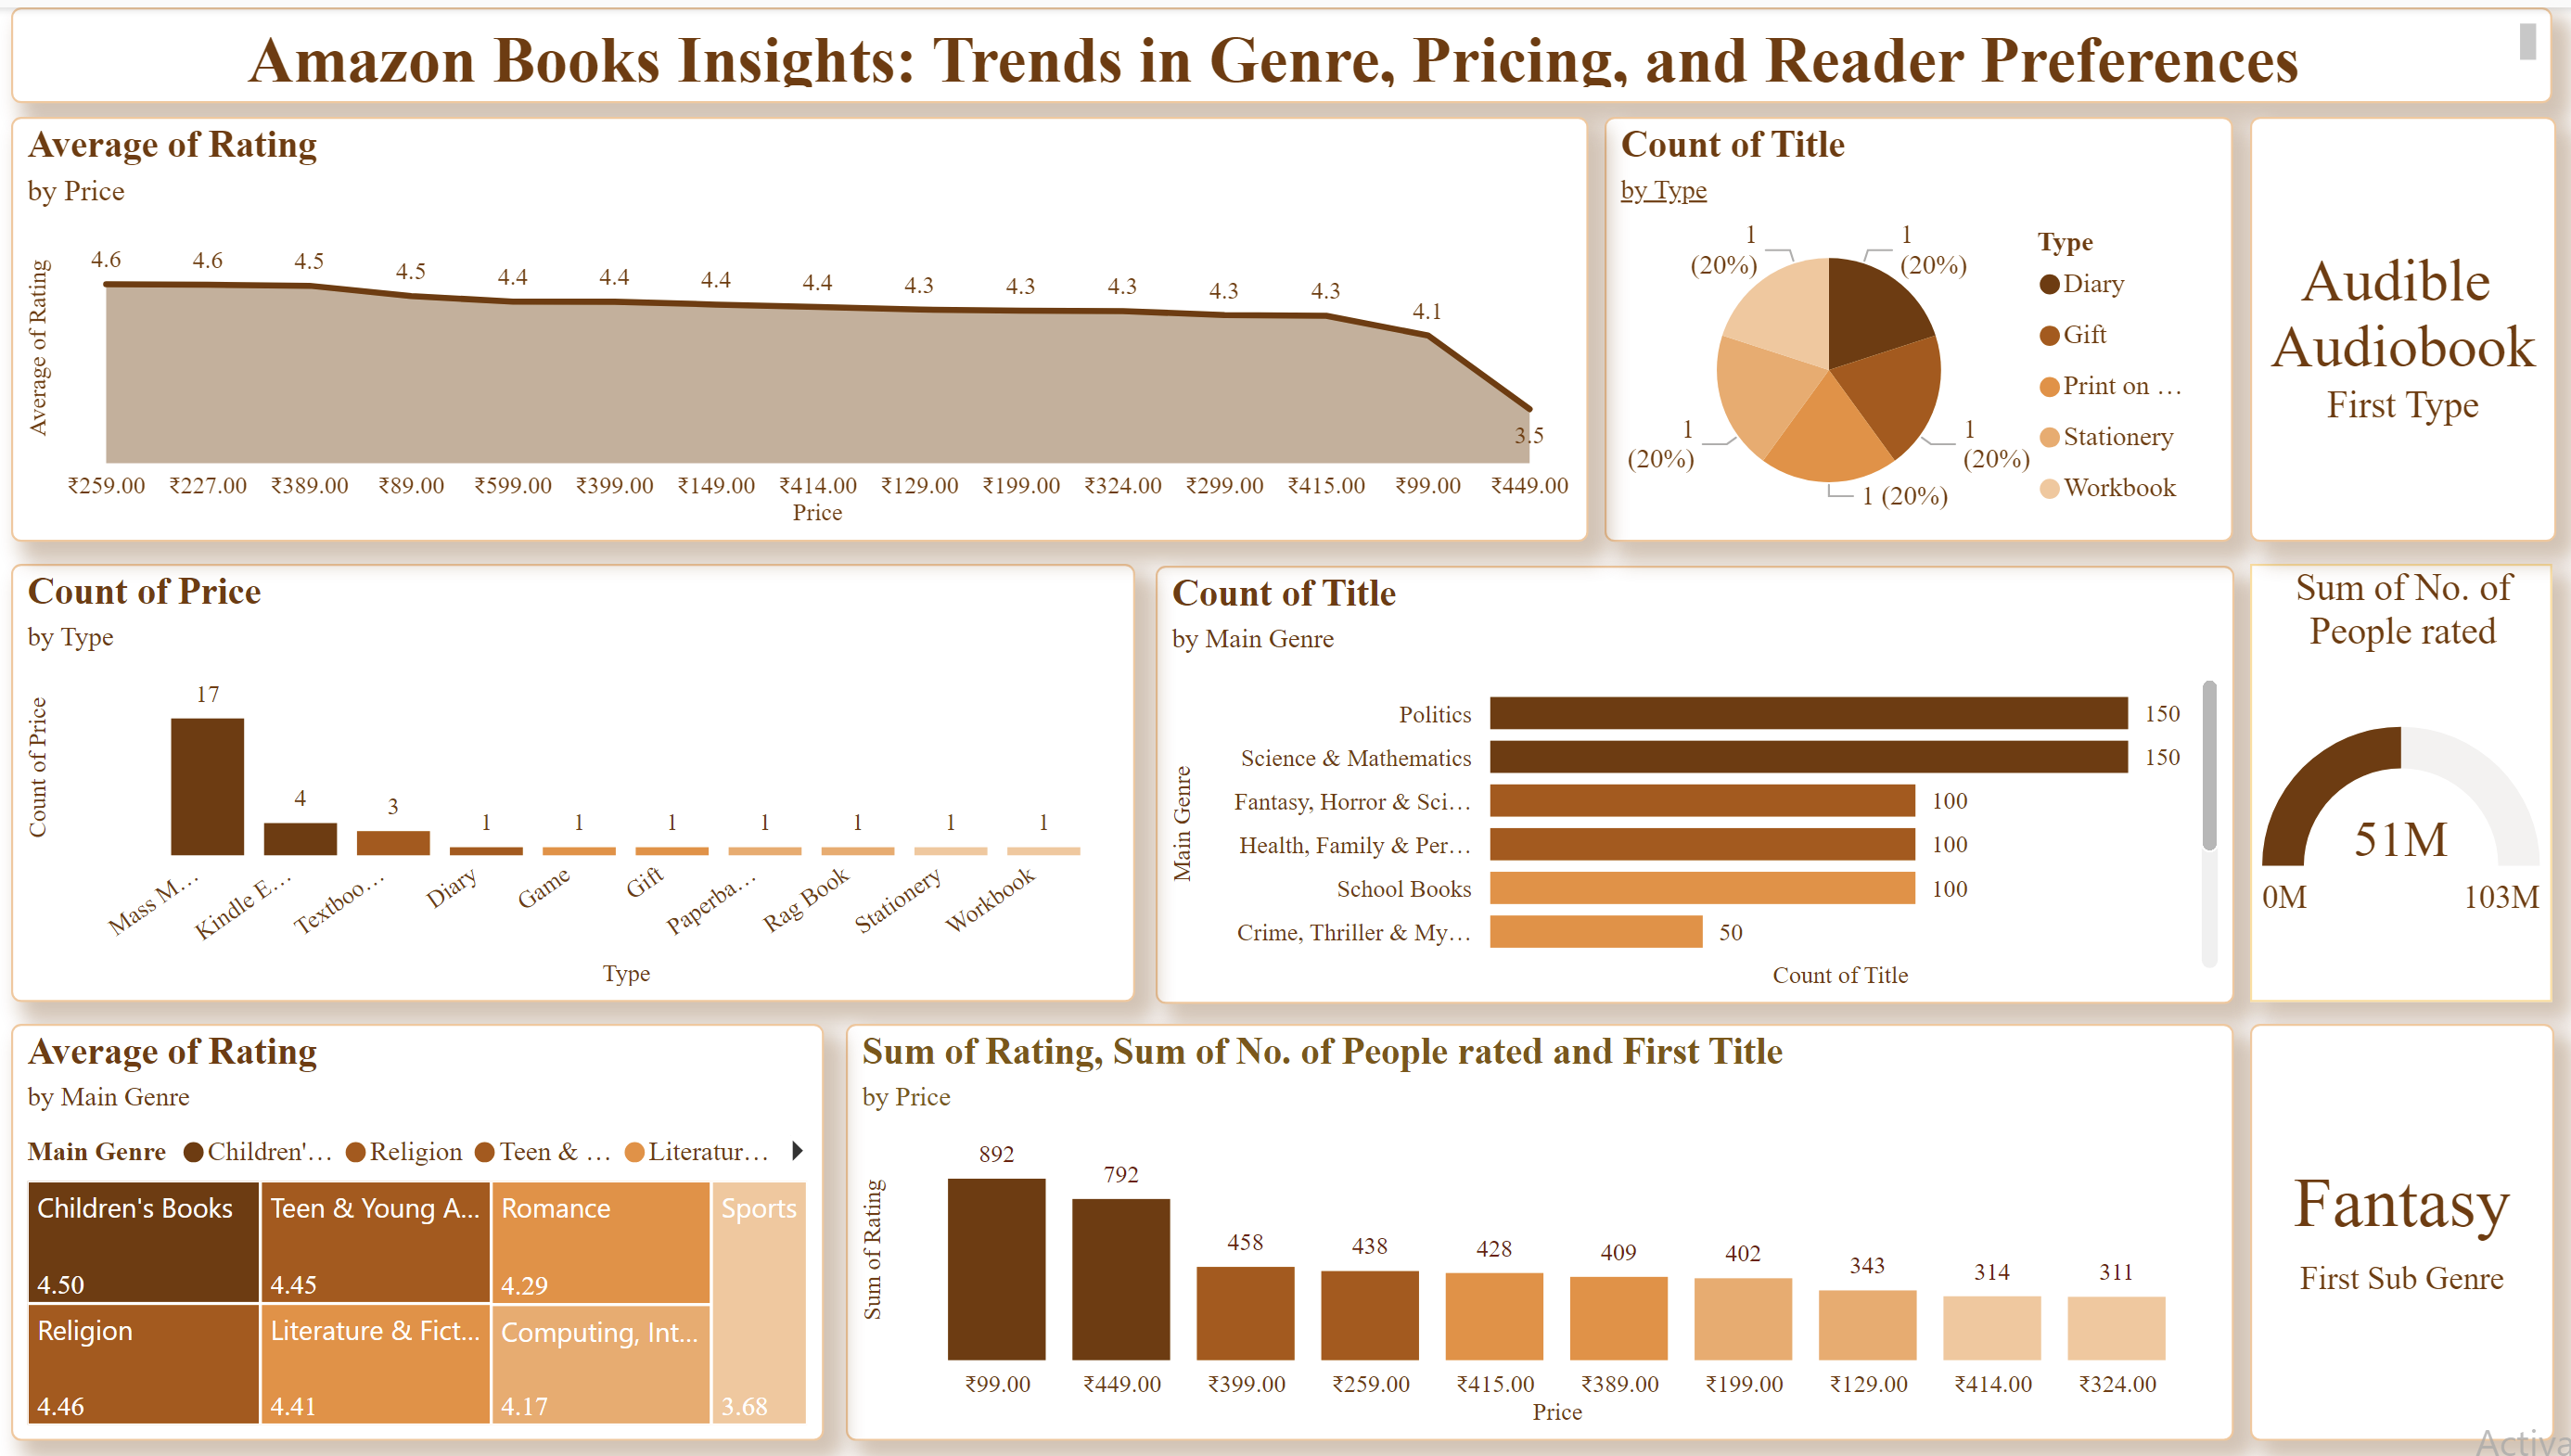

What the dashboard file says about the page in this screenshot:
{"tool":"powerbi","page":{"name":"Page 1","canvas":[1280,720],"ordinal":0},"visuals":[{"type":"textbox","box":[9.3,0,1261.5,47.3],"z":0},{"type":"barChart","fields":{"Category":["Books_df.Main Genre"],"Y":["Books_df.Title"]},"box":[577,277.2,535.3,217.7],"z":1000},{"type":"columnChart","fields":{"Category":["Books_df.Type"],"Y":["Books_df.Price"]},"box":[9.5,276,557.9,217.7],"z":2000},{"type":"scatterChart","fields":{"X":["Books_df.Price"],"Y":["Books_df.Rating"],"Size":["Books_df.No. of People rated"]},"box":[423.5,504.4,688.8,207],"z":3000},{"type":"treemap","fields":{"Group":["Books_df.Main Genre"],"Values":["Books_df.Rating"]},"box":[9.5,504.4,403.3,207],"z":4000},{"type":"pieChart","fields":{"Category":["Books_df.Type"],"Y":["Books_df.Title"]},"box":[800.5,54.5,311.8,210.9],"z":5000},{"type":"areaChart","fields":{"Category":["Books_df.Price"],"Y":["Books_df.Rating"]},"box":[9.3,54.5,783,210.9],"z":6000},{"type":"gauge","fields":{"Y":["Books_df.No. of People rated"]},"box":[1120.6,276,149.9,217.7],"z":7000},{"type":"card","fields":{"Values":["Books_df.Type"]},"box":[1120.6,63,152.3,202.2],"z":8000},{"type":"cardVisual","fields":{"Data":["Books_df.Sub Genre"]},"box":[1120.6,504.4,151.1,207],"z":9000}]}

Visuals, with their boxes in screenshot pixels (x1, y1, x2, y2), scaled from the page's 1280x720 canvas onto the 2571x1456 screenshot:
textbox: BBox(19, 0, 2552, 96)
barChart - Books_df.Main Genre x Books_df.Title: BBox(1159, 560, 2234, 1001)
columnChart - Books_df.Type x Books_df.Price: BBox(19, 558, 1140, 999)
scatterChart - Books_df.Price x Books_df.Rating: BBox(851, 1020, 2234, 1438)
treemap - Books_df.Main Genre x Books_df.Rating: BBox(19, 1020, 829, 1438)
pieChart - Books_df.Type x Books_df.Title: BBox(1608, 110, 2234, 537)
areaChart - Books_df.Price x Books_df.Rating: BBox(19, 110, 1592, 537)
gauge - Books_df.No. of People rated: BBox(2251, 558, 2552, 999)
card - Books_df.Type: BBox(2251, 127, 2557, 536)
cardVisual - Books_df.Sub Genre: BBox(2251, 1020, 2554, 1438)
